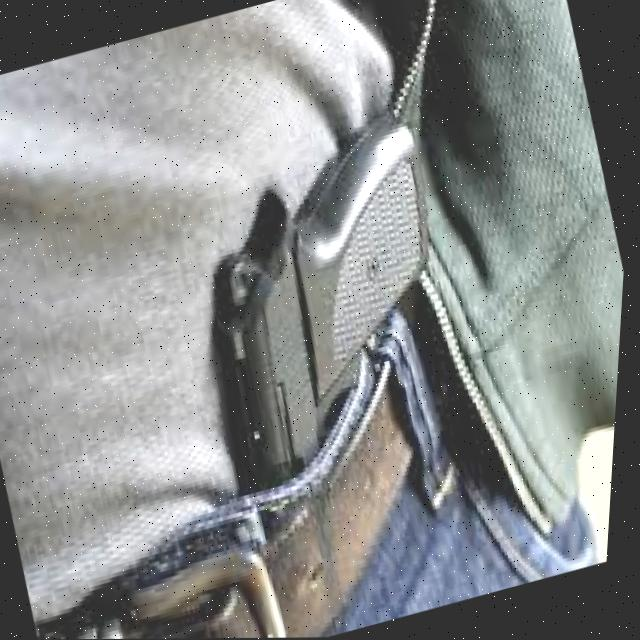pistol: (168, 98, 501, 494)
